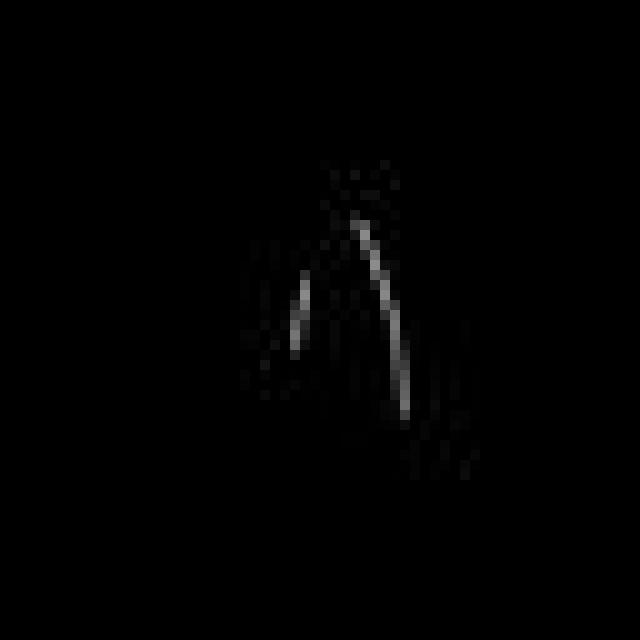8 -eight-: (264, 206, 426, 423)
